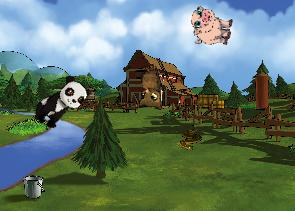owl: (128, 62, 167, 114)
panda: (28, 71, 93, 135)
pig: (187, 4, 235, 49)
